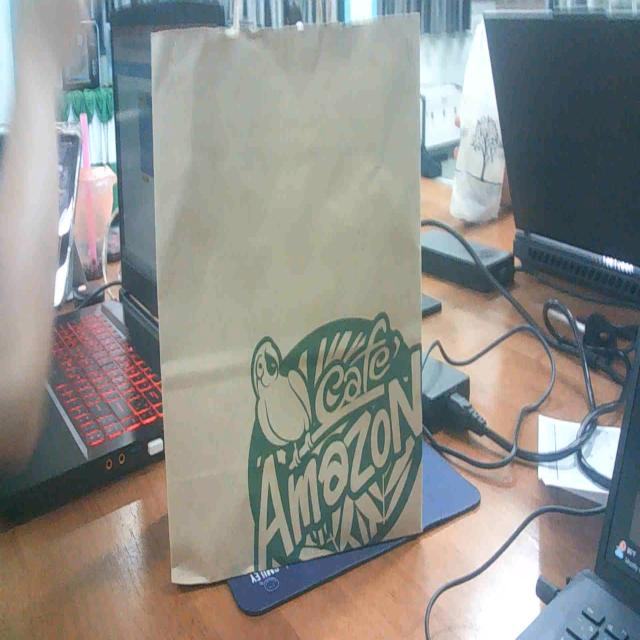bag: (144, 12, 444, 581)
